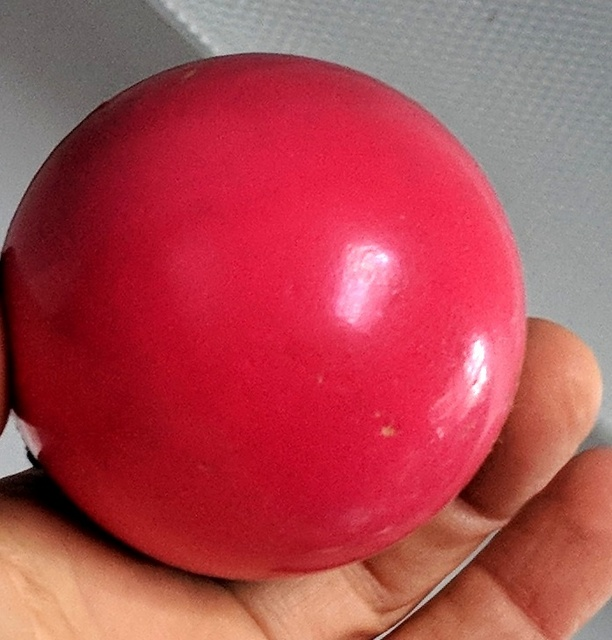ball: (1, 53, 527, 583)
